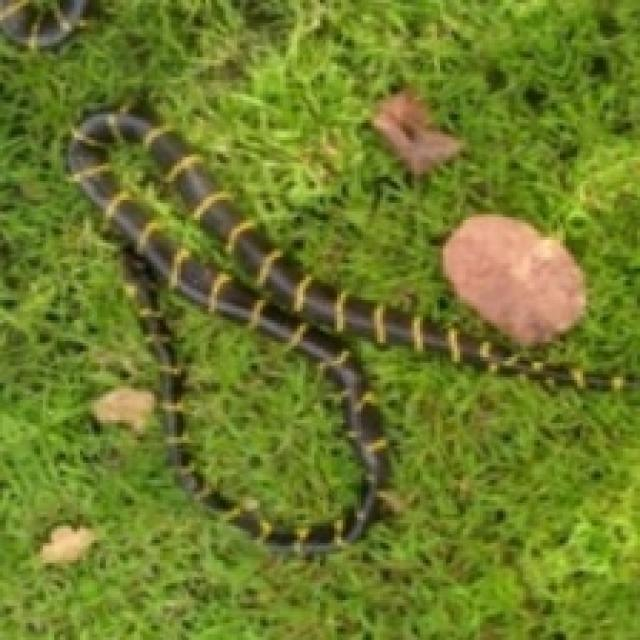mangrove cat snake: (66, 111, 614, 549)
